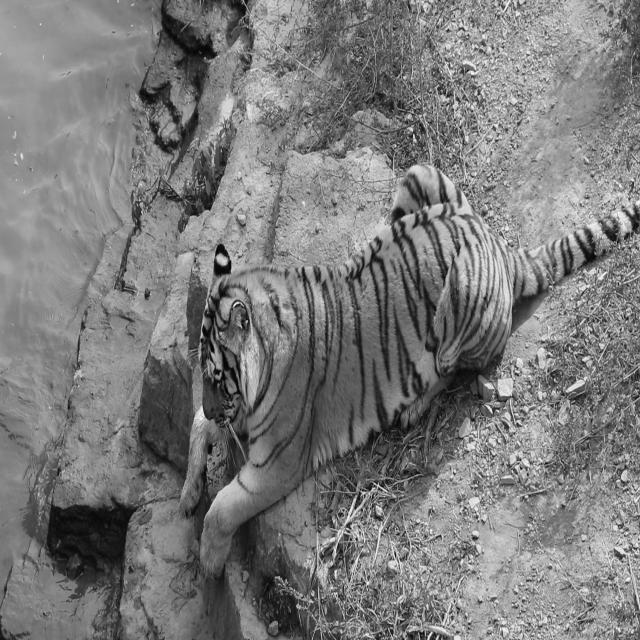Tiger: (178, 161, 638, 581)
